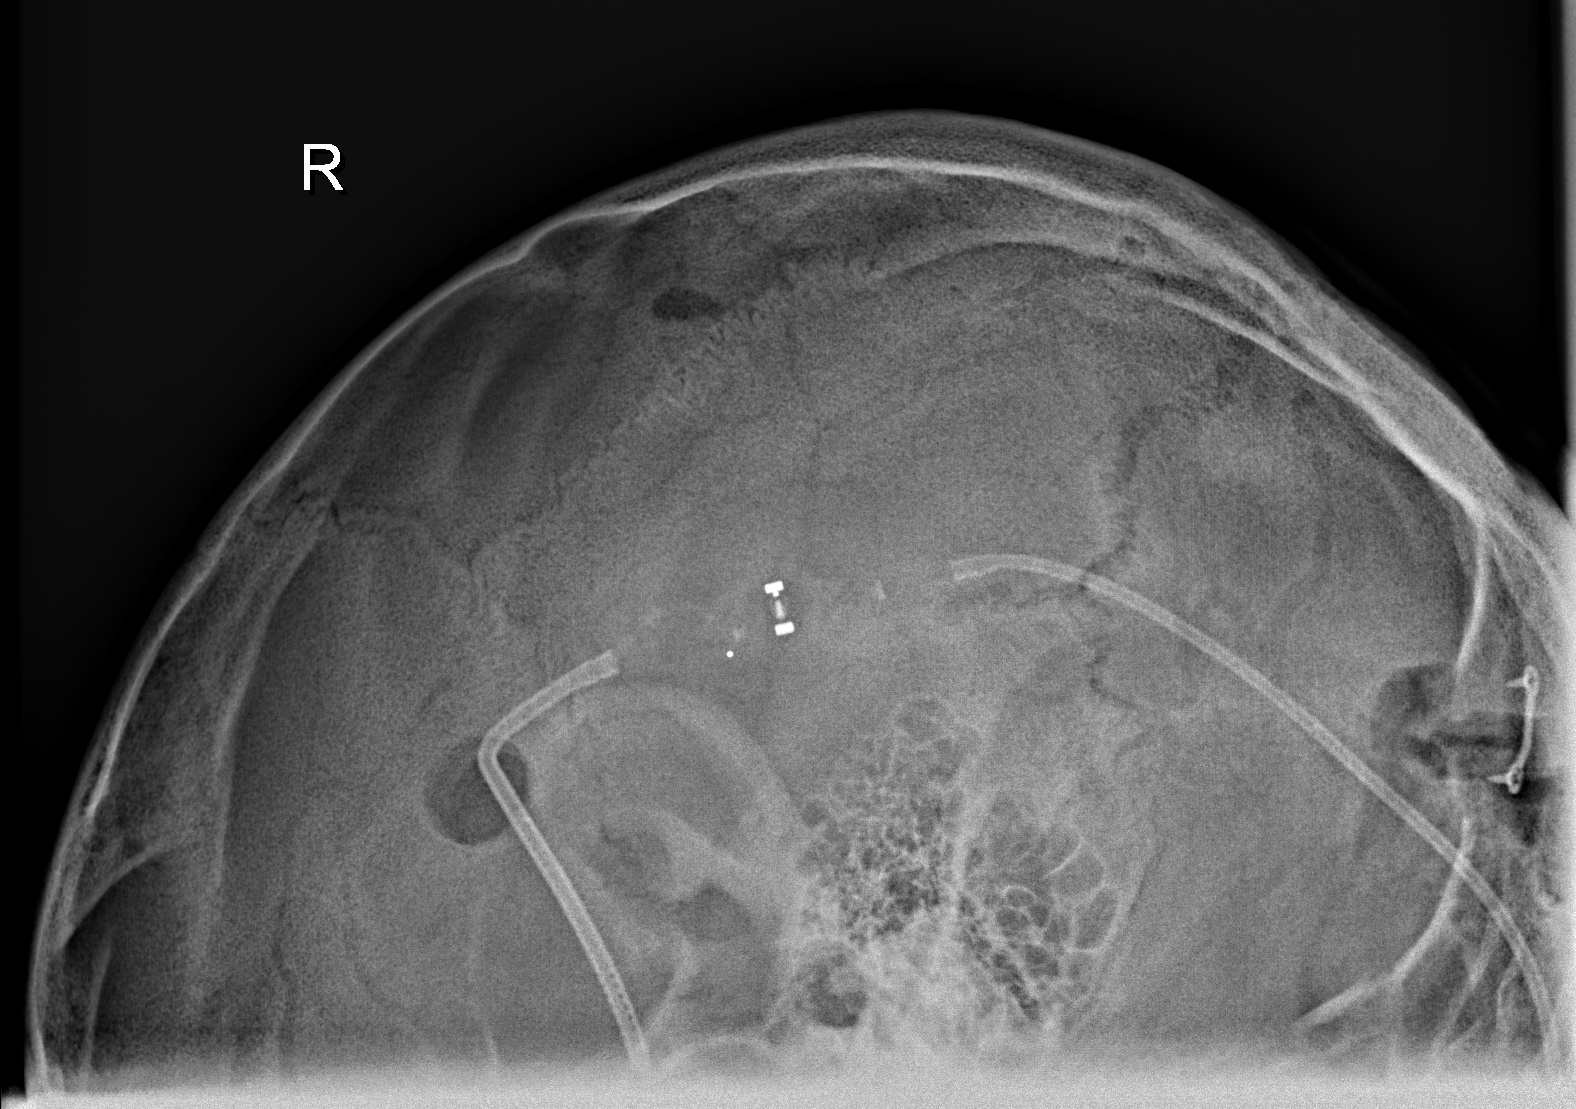Codman Certas: (713, 565, 823, 671)
